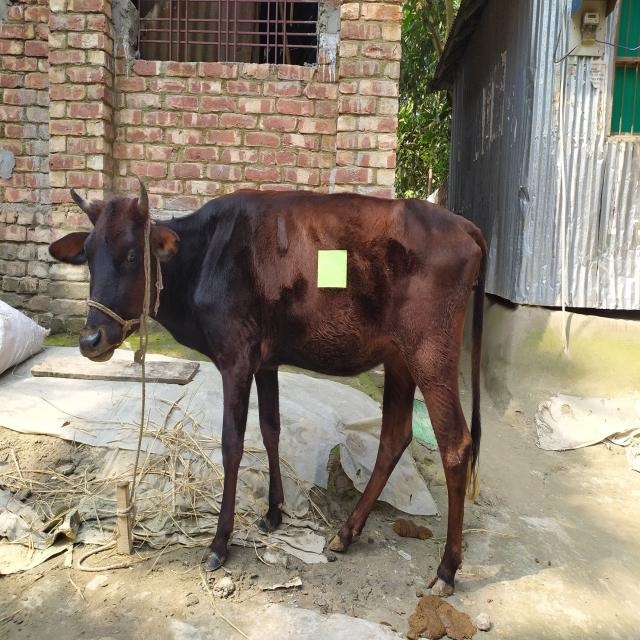badan_sapi: (217, 191, 463, 374)
sapi: (47, 174, 493, 604)
